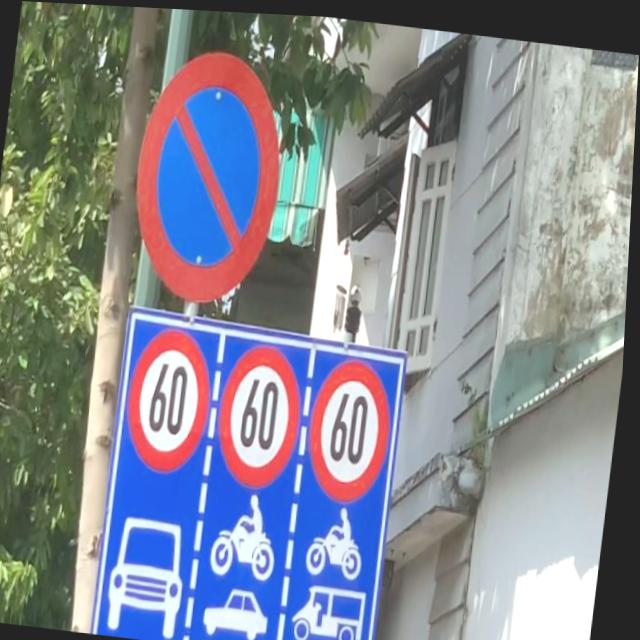Cam do xe: (123, 38, 296, 310)
Toc do toi da cho phep: (125, 321, 222, 476), (215, 336, 312, 490), (306, 349, 402, 503)
